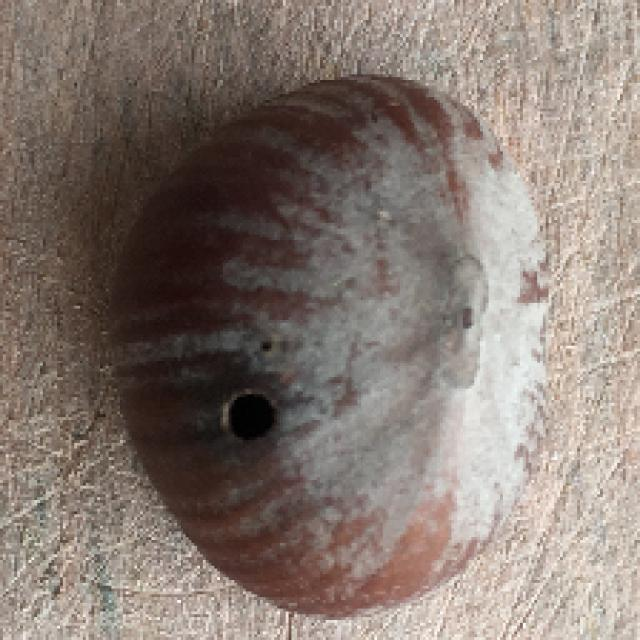damagedHazelnut: (106, 79, 560, 610)
